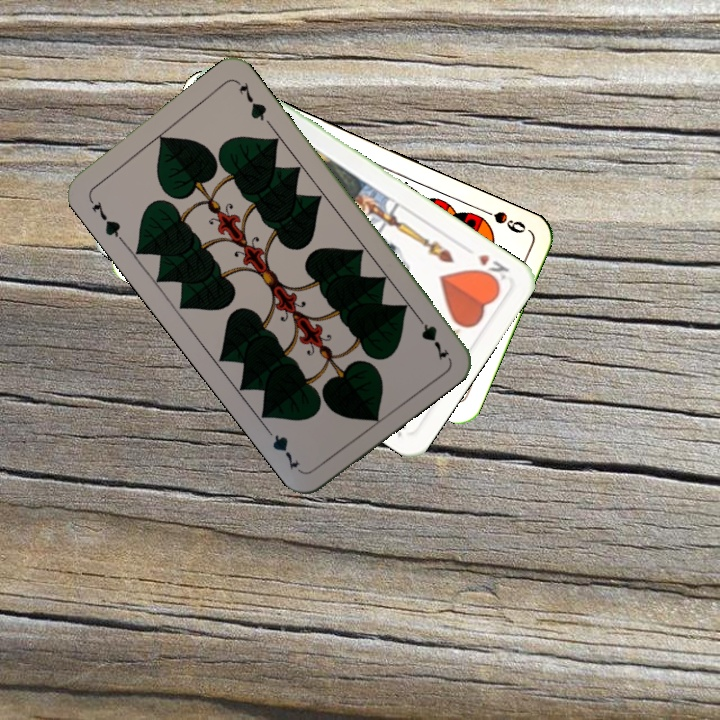G7: (410, 309, 453, 362), (84, 193, 126, 244)
HK: (471, 250, 512, 287)
S9: (474, 203, 528, 236)
